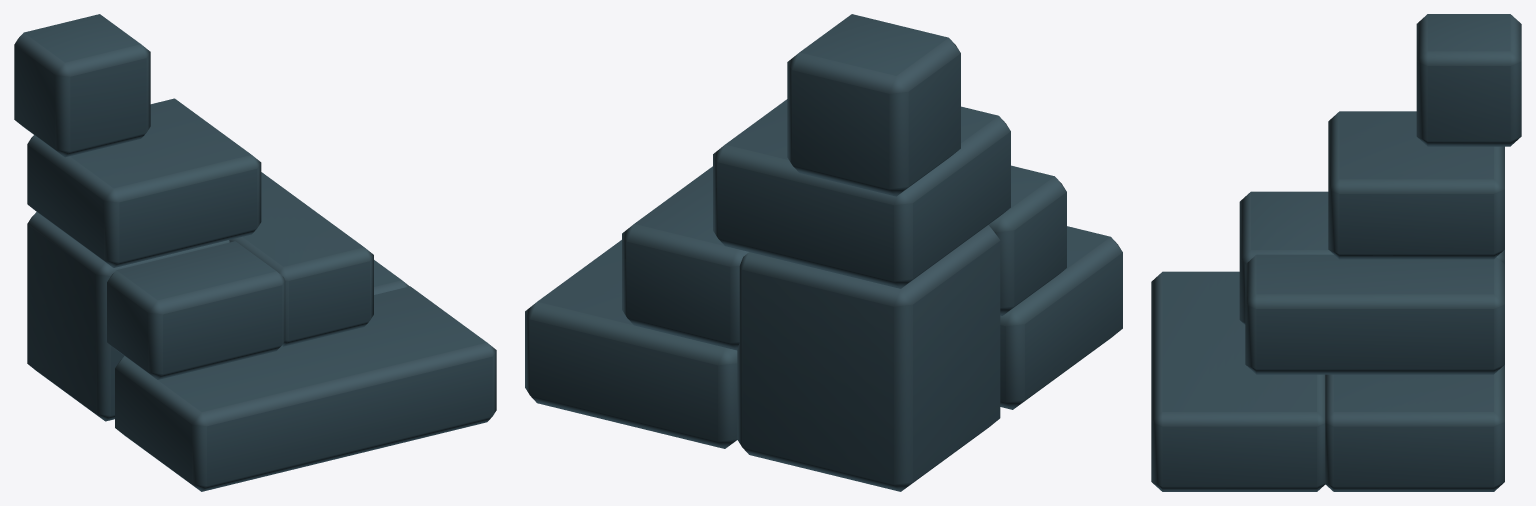
Rendered from stair_corner_convex_hue_3.fbx.
3 renders of one model, left to right at view 1: azimuth 30°, elevation 25°; view 2: azimuth 150°, elevation 25°; view 3: azimuth 270°, elevation 25°, orthographic. The views are drawn at different scales.
Visible parts, largest first — view 1: stair_corner_convex_hue_3; view 2: stair_corner_convex_hue_3; view 3: stair_corner_convex_hue_3.
Boxes of the visible parts, x1=… form: stair_corner_convex_hue_3: x1=14, y1=14, x2=496, y2=491; stair_corner_convex_hue_3: x1=525, y1=14, x2=1122, y2=491; stair_corner_convex_hue_3: x1=1151, y1=14, x2=1521, y2=491.
Size of the model in its own units: 102 by 105 by 105.
